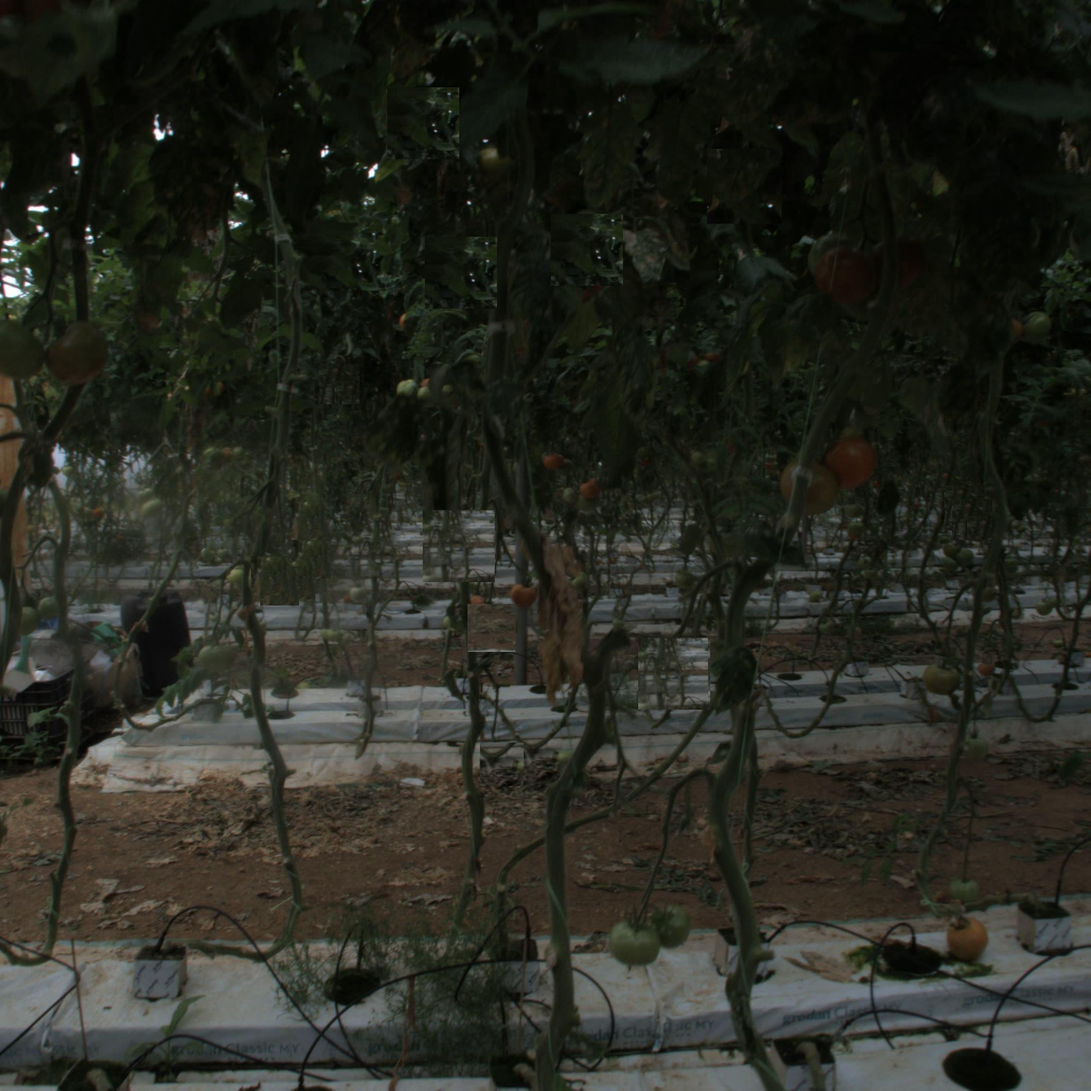['unripe', 'semi-ripe', 'fully-ripe']: (38, 314, 103, 380), (606, 916, 662, 973), (921, 657, 964, 700)
